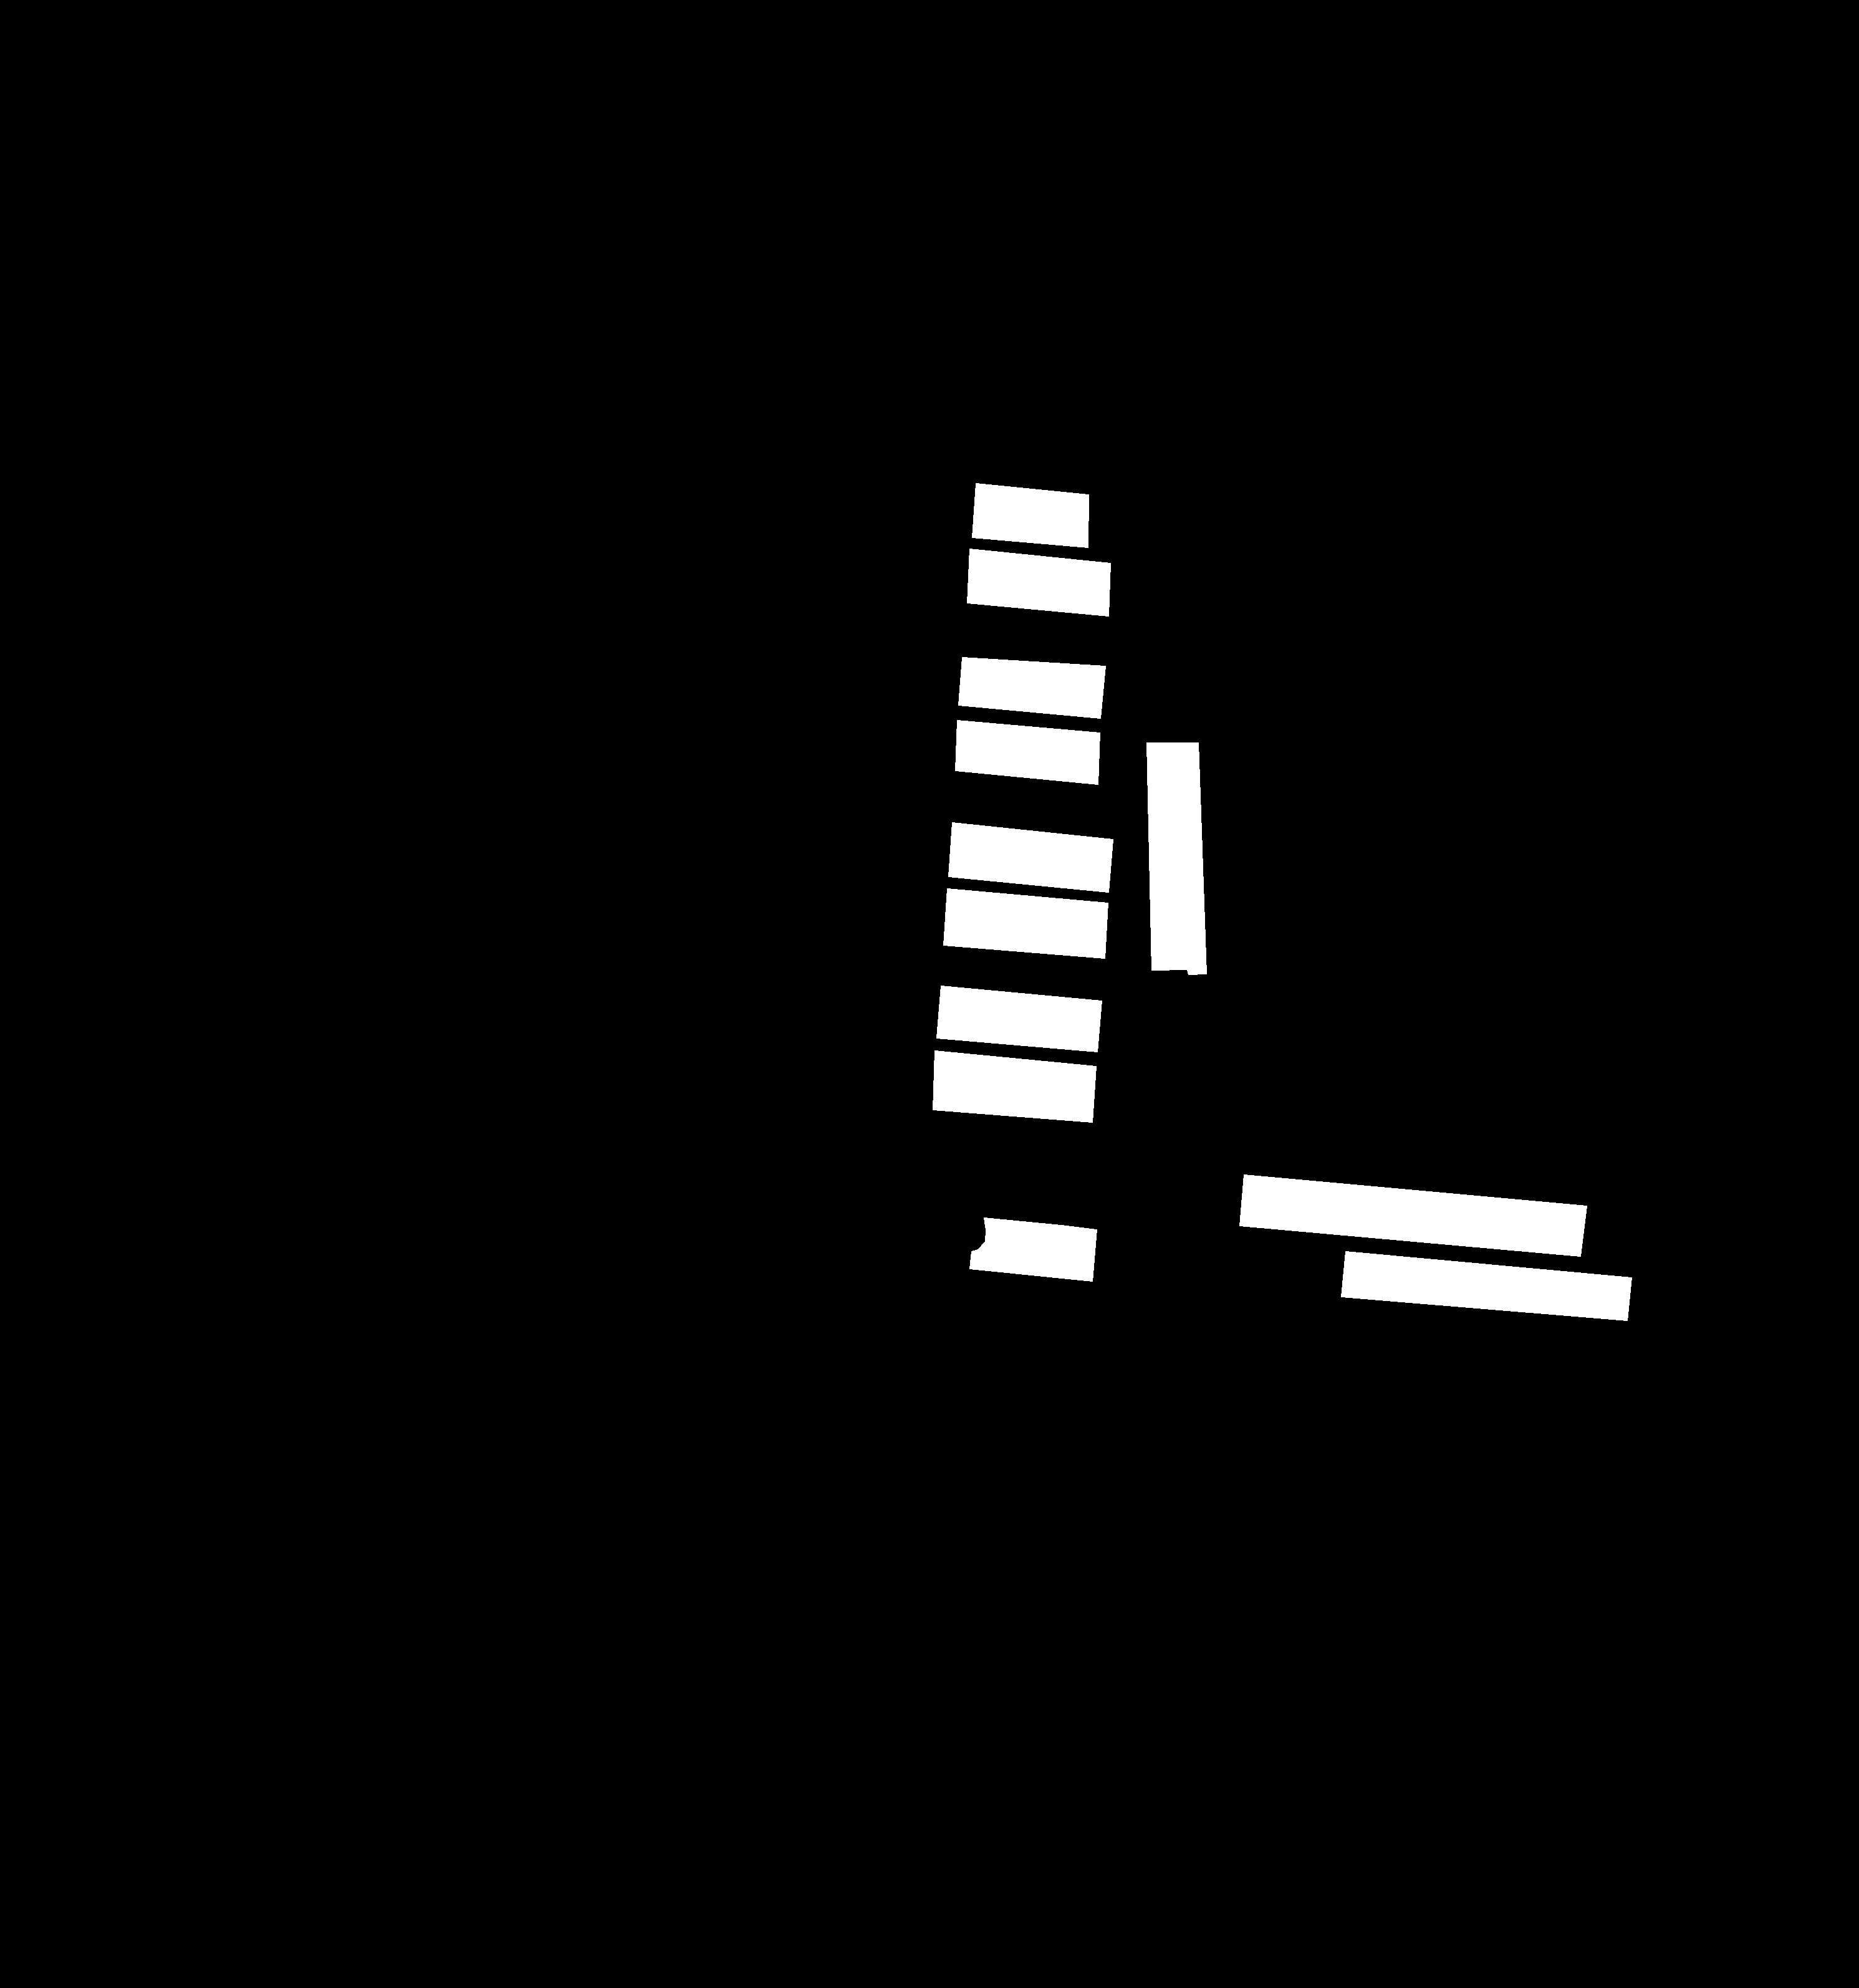parkingspot: (1239, 1174, 1586, 1256), (1340, 1251, 1632, 1321), (1146, 742, 1206, 975), (933, 1050, 1095, 1122), (949, 823, 1113, 893), (943, 889, 1108, 957), (936, 985, 1101, 1052), (966, 549, 1109, 617), (956, 720, 1099, 784), (957, 657, 1106, 718), (970, 1218, 1097, 1280), (971, 484, 1088, 547)
